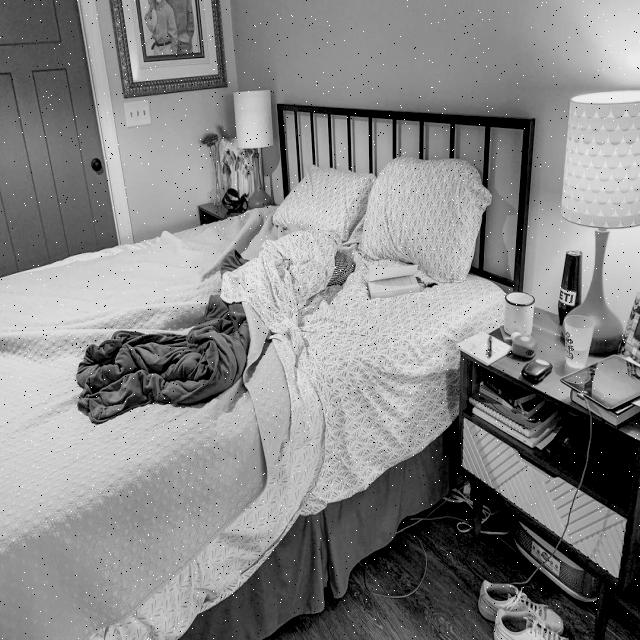bed: (0, 143, 518, 543)
